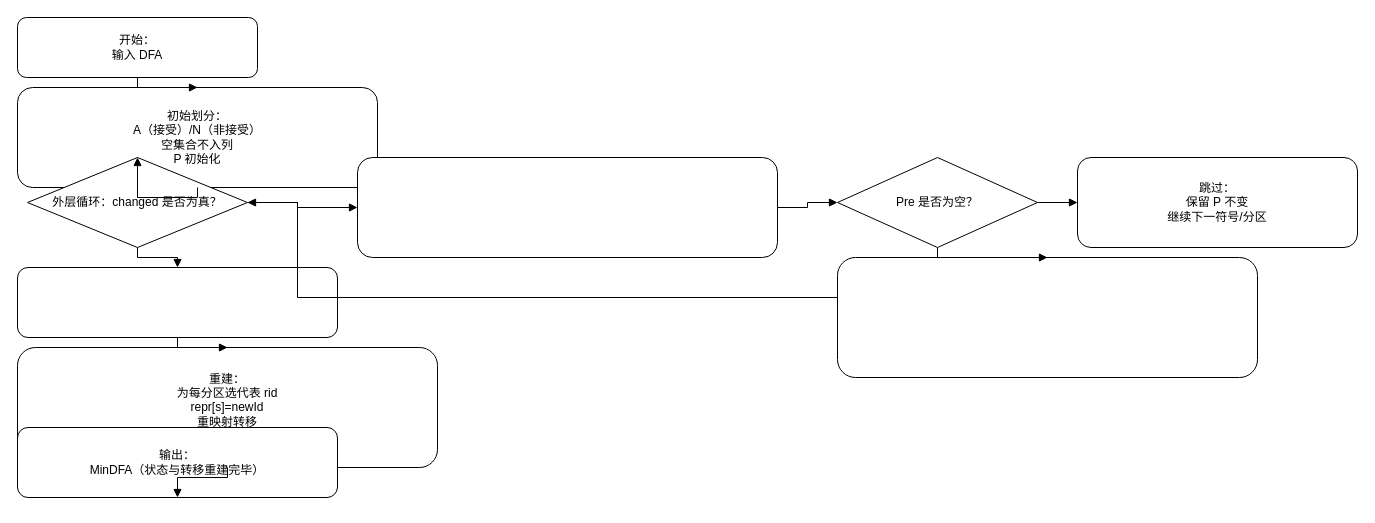
The diagram is 1375 pixels wide and 523 high, and some of its shapes have lost their labels. The shapes that lost their labels are listed below. From the top down, each one's centre as x and y in pixels, then its label:
At point 567,207: "内层： 遍历分区 X 与符号 a 计算 Pre={ s | trans(s,a)∈X }".
At point 177,302: "稳定： 若一轮未发生切分，则收敛".
At point 1047,317: "切分： 对每个 Y∈P，用 Pre 将 Y→Y1/Y2 若均非空则替换 Y changed=true".
